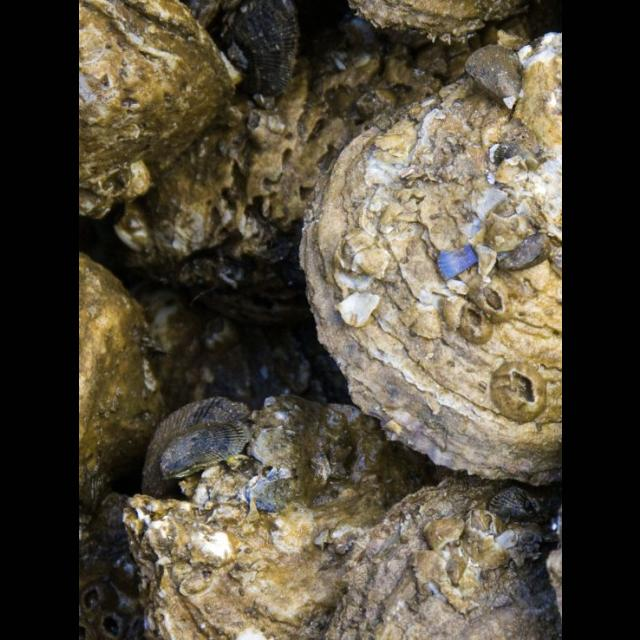Oyster-Closed: (118, 2, 558, 322), (299, 30, 561, 485), (121, 395, 431, 640), (330, 479, 561, 640), (78, 0, 240, 223), (130, 278, 354, 418), (78, 253, 168, 516), (143, 398, 251, 495), (78, 494, 144, 640), (208, 0, 296, 97), (348, 0, 534, 40), (158, 422, 250, 480), (465, 44, 522, 110), (489, 486, 539, 518), (545, 547, 561, 612)
